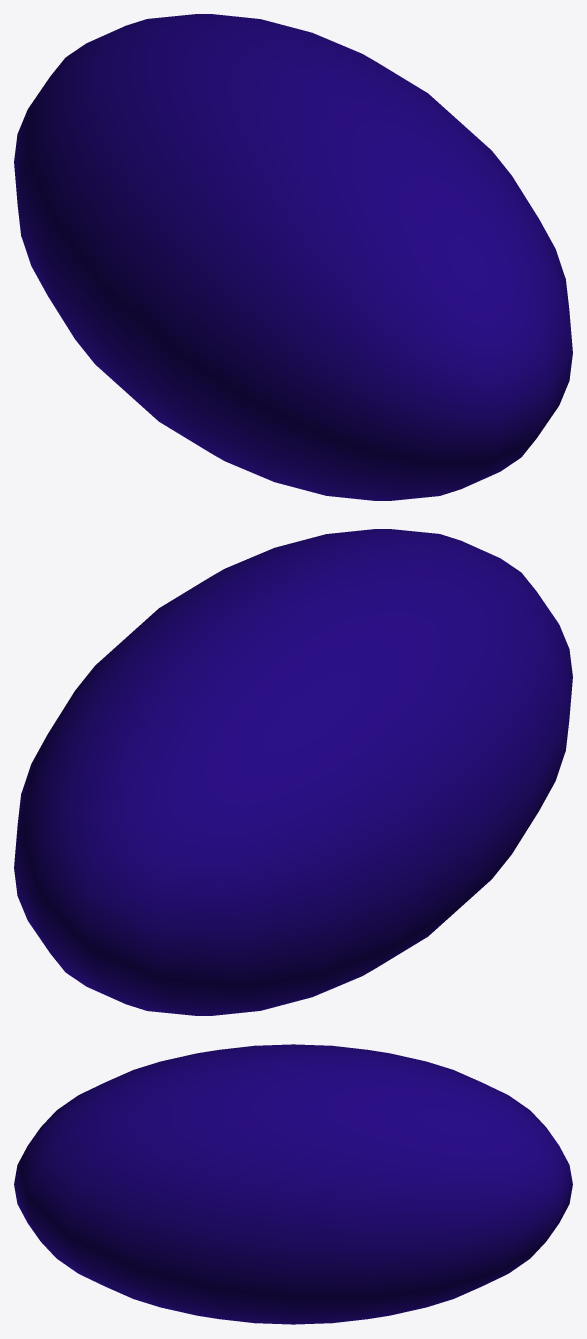
Rendered from eggplant.obj.
The picture shows the model from 3 angles, top to bottom: view 1: azimuth 30°, elevation 25°; view 2: azimuth 150°, elevation 25°; view 3: azimuth 270°, elevation 25°; orthographic projection. The views are drawn at different scales.
Visible parts, largest first — view 1: pSphere1; view 2: pSphere1; view 3: pSphere1.
Part boxes in pixels (<box>): pSphere1: <box>14,14,572,500</box>; pSphere1: <box>14,529,572,1015</box>; pSphere1: <box>14,1044,572,1324</box>.
Bounding box in the file's own units: 3.77 × 3.51 × 7.11.
